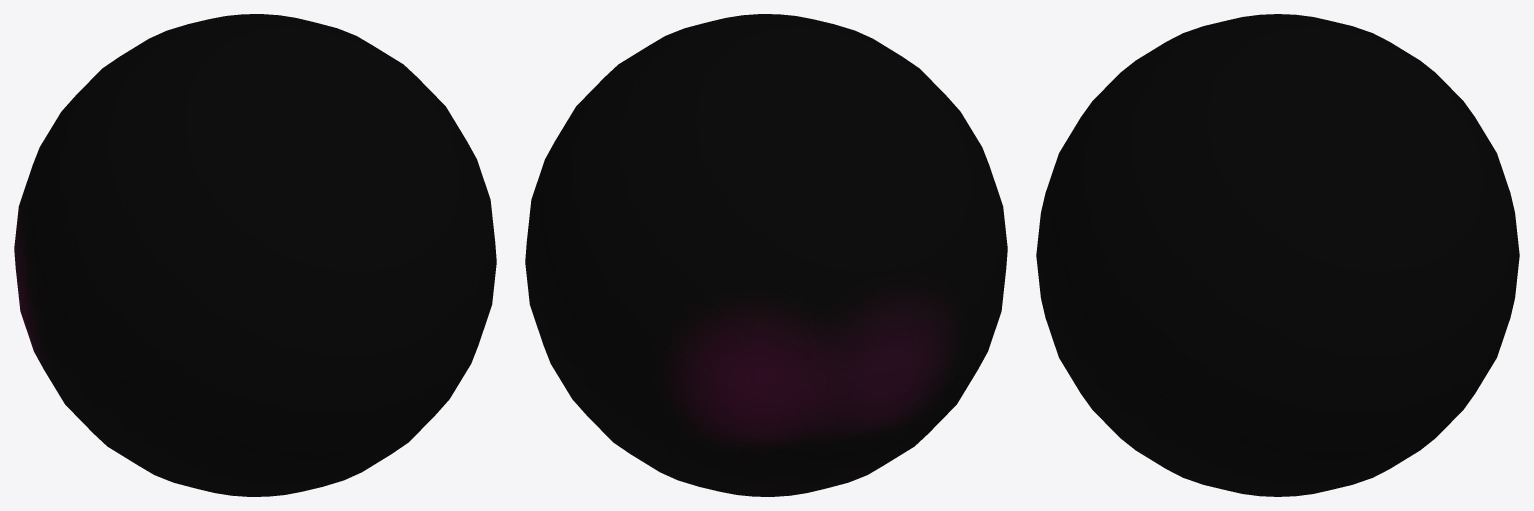
Rendered from Environment.glb.
The picture shows the model from 3 angles, left to right: view 1: azimuth 30°, elevation 25°; view 2: azimuth 150°, elevation 25°; view 3: azimuth 270°, elevation 25°; orthographic projection.
Parts seen in each view (by area): view 1: Sphere; view 2: Sphere; view 3: Sphere.
Part boxes in pixels (<box>): Sphere: <box>14,14,496,496</box>; Sphere: <box>525,14,1007,496</box>; Sphere: <box>1036,14,1519,496</box>.
Bounding box in the file's own units: 4.16 × 4.16 × 4.16.
Materials: 1 (1 with a texture image).
